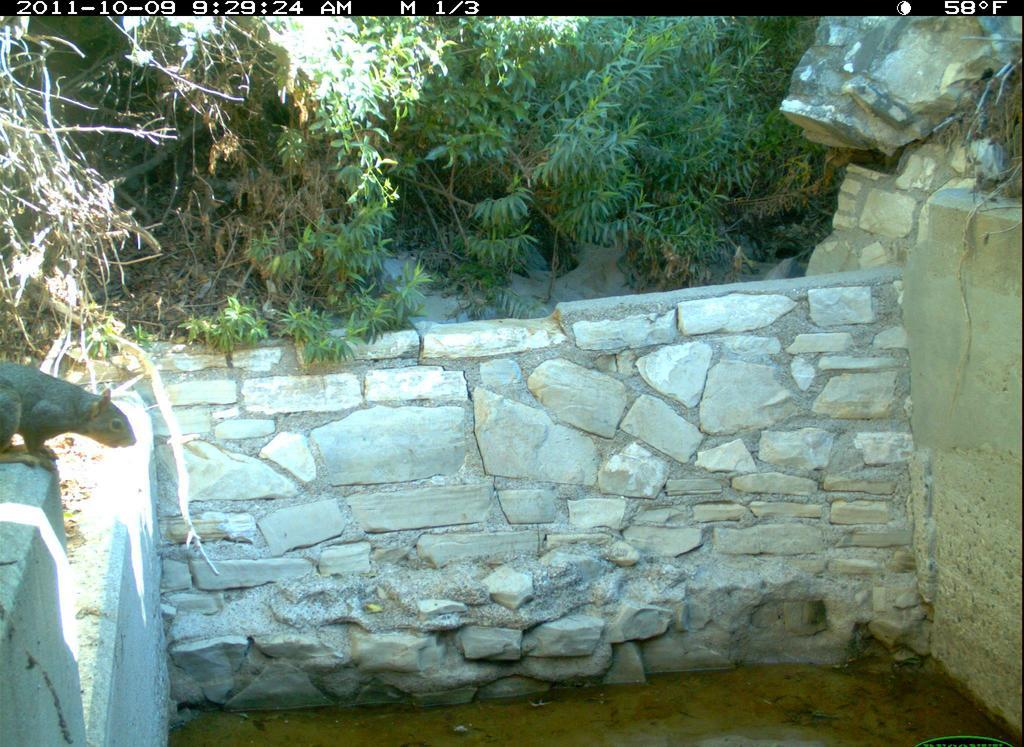squirrel: (1, 351, 145, 473)
